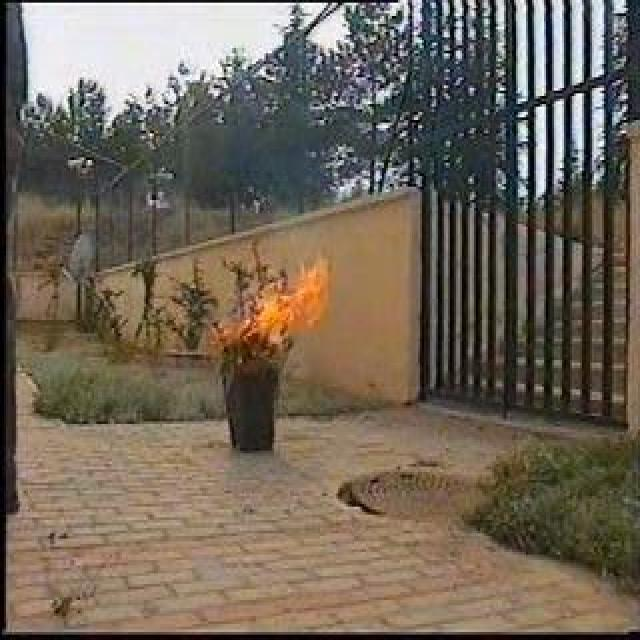fire: (223, 266, 332, 340)
